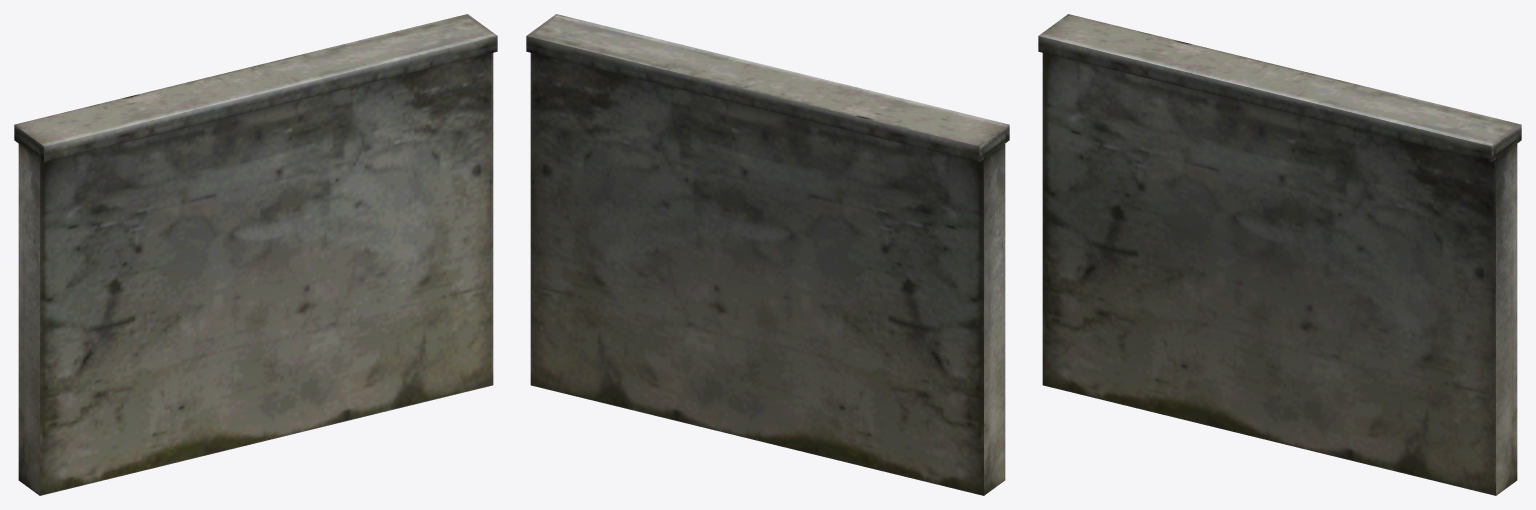
Rendered from Wall.fbx.
3 renders of one model, left to right at view 1: azimuth 30°, elevation 25°; view 2: azimuth 150°, elevation 25°; view 3: azimuth 330°, elevation 25°, orthographic.
Visible parts, largest first — view 1: Wall; view 2: Wall; view 3: Wall.
Part boxes in pixels (bbox=[...]): Wall: bbox=[14, 14, 497, 495]; Wall: bbox=[526, 14, 1009, 495]; Wall: bbox=[1038, 14, 1521, 495].
Size of the model in its own units: 403 by 299 by 46.22.
